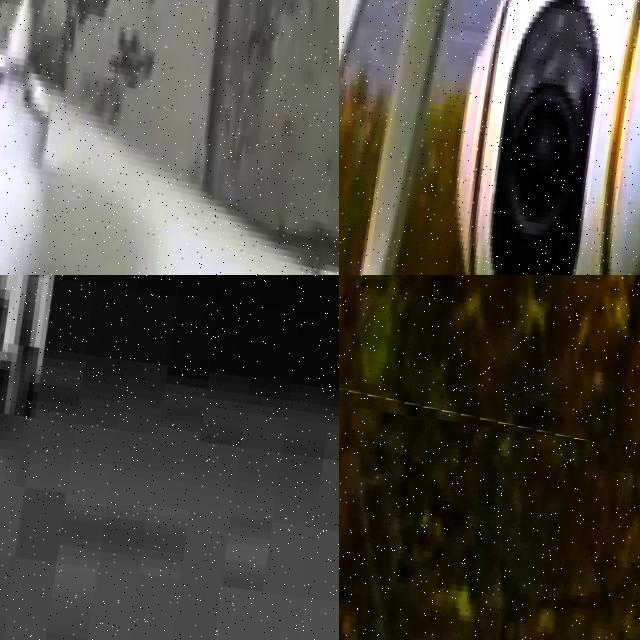drone: (0, 0, 339, 275), (339, 275, 640, 477)
